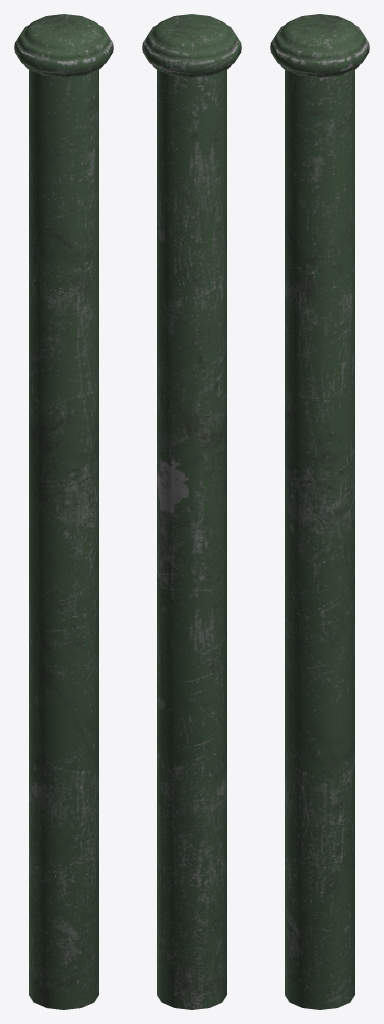
File: Metal_bar_1.glb
3 renders of one model, left to right at view 1: azimuth 30°, elevation 25°; view 2: azimuth 150°, elevation 25°; view 3: azimuth 330°, elevation 25°, orthographic.
Parts seen in each view (by area): view 1: pole_2_pole2_0; view 2: pole_2_pole2_0; view 3: pole_2_pole2_0.
Part boxes in pixels (left/top/right/bottom): pole_2_pole2_0: left=14, top=14, right=113, bottom=1009; pole_2_pole2_0: left=142, top=14, right=241, bottom=1009; pole_2_pole2_0: left=270, top=14, right=369, bottom=1009.
Size of the model in its own units: 0.1596 by 1.71 by 0.1596.
1 material, 1 textured.
